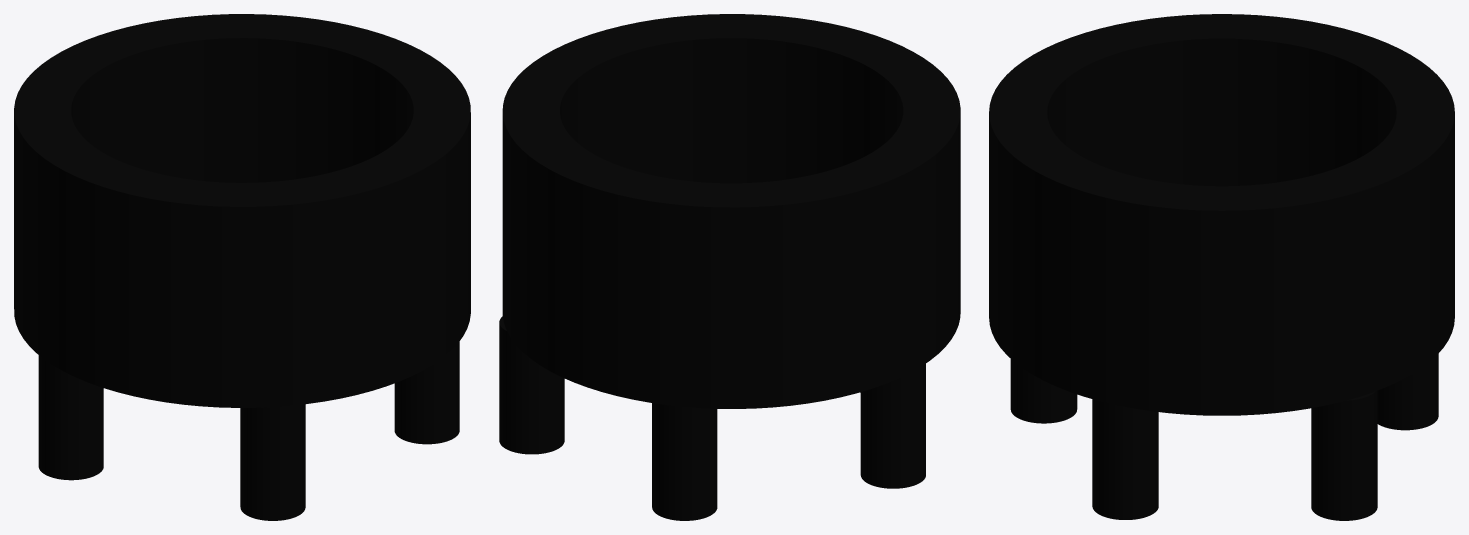
The model's file is couldren.fbx.
3 renders of one model, left to right at view 1: azimuth 30°, elevation 25°; view 2: azimuth 150°, elevation 25°; view 3: azimuth 270°, elevation 25°, orthographic.
Parts seen in each view (by area): view 1: root (×4); view 2: root (×4); view 3: root (×5).
Part boxes in pixels (box(x1,y1,x2,y2)): root (×4): box(14, 14, 470, 520); root (×4): box(499, 14, 960, 520); root (×5): box(989, 14, 1454, 520).
Size of the model in its own units: 0.4025 by 0.3101 by 0.4025.
Materials: 7 (7 with a texture image).
